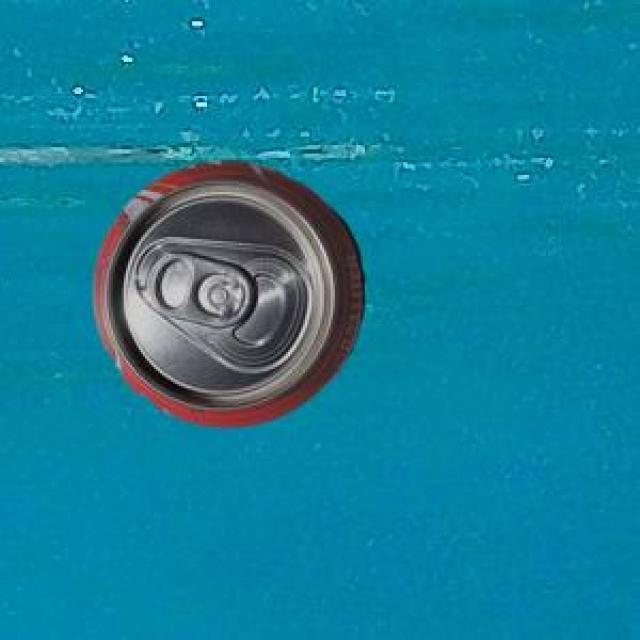Can: (91, 157, 362, 423)
